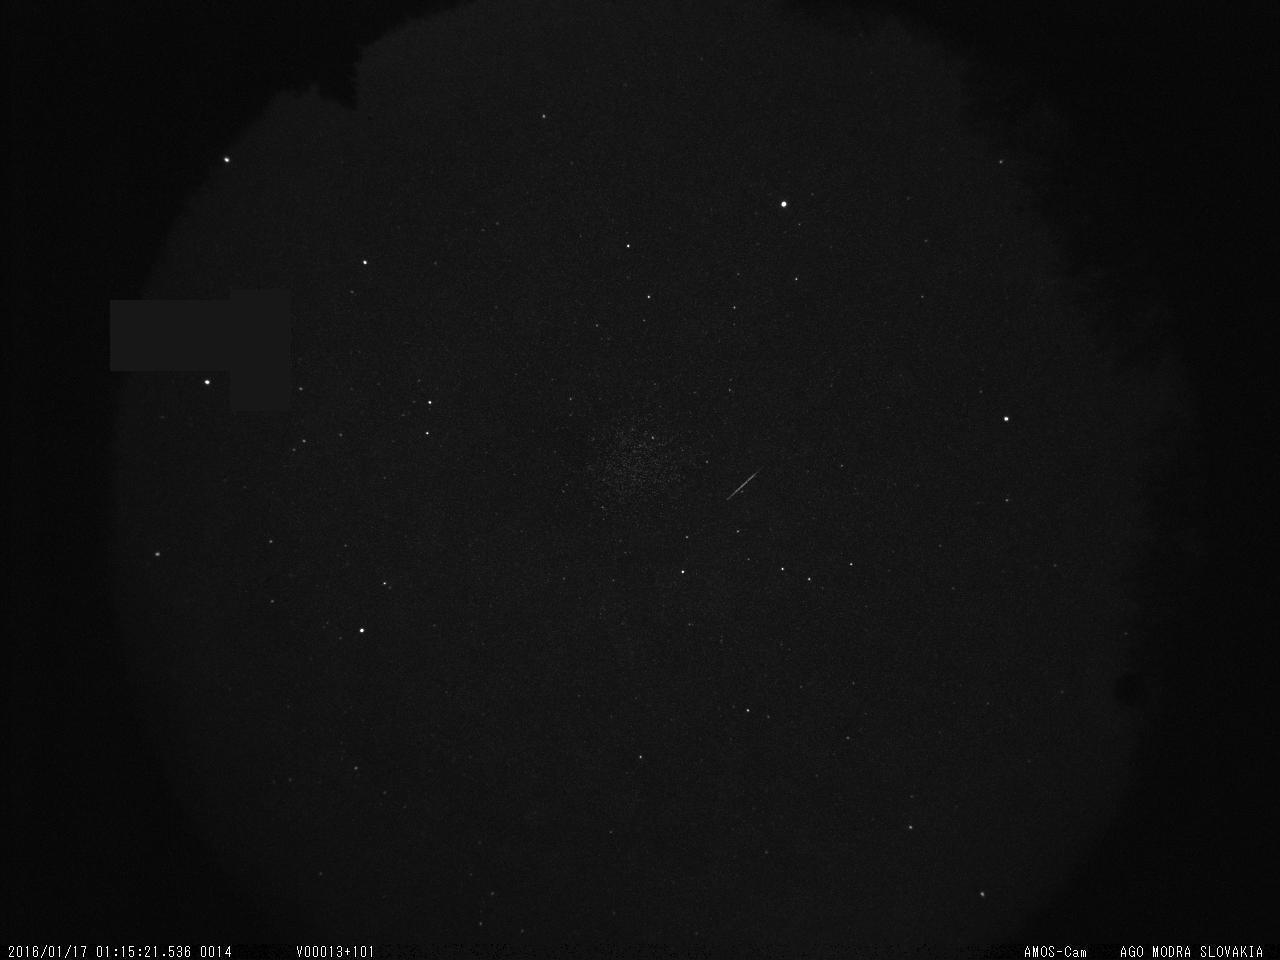Meteor: (718, 456, 772, 512)
